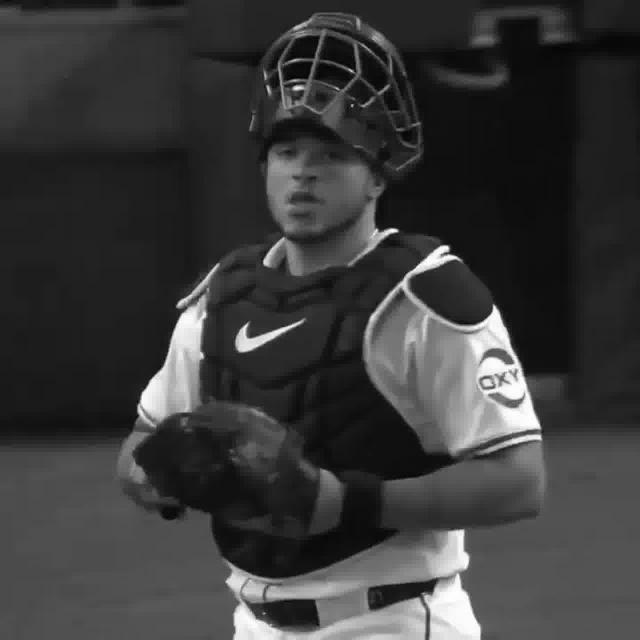baseball_glove: (140, 404, 313, 542)
